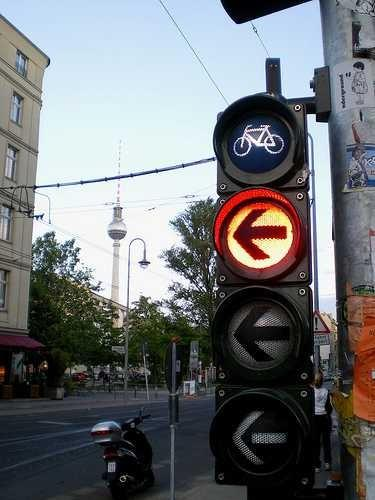red: (215, 185, 318, 487), (218, 192, 305, 277)
